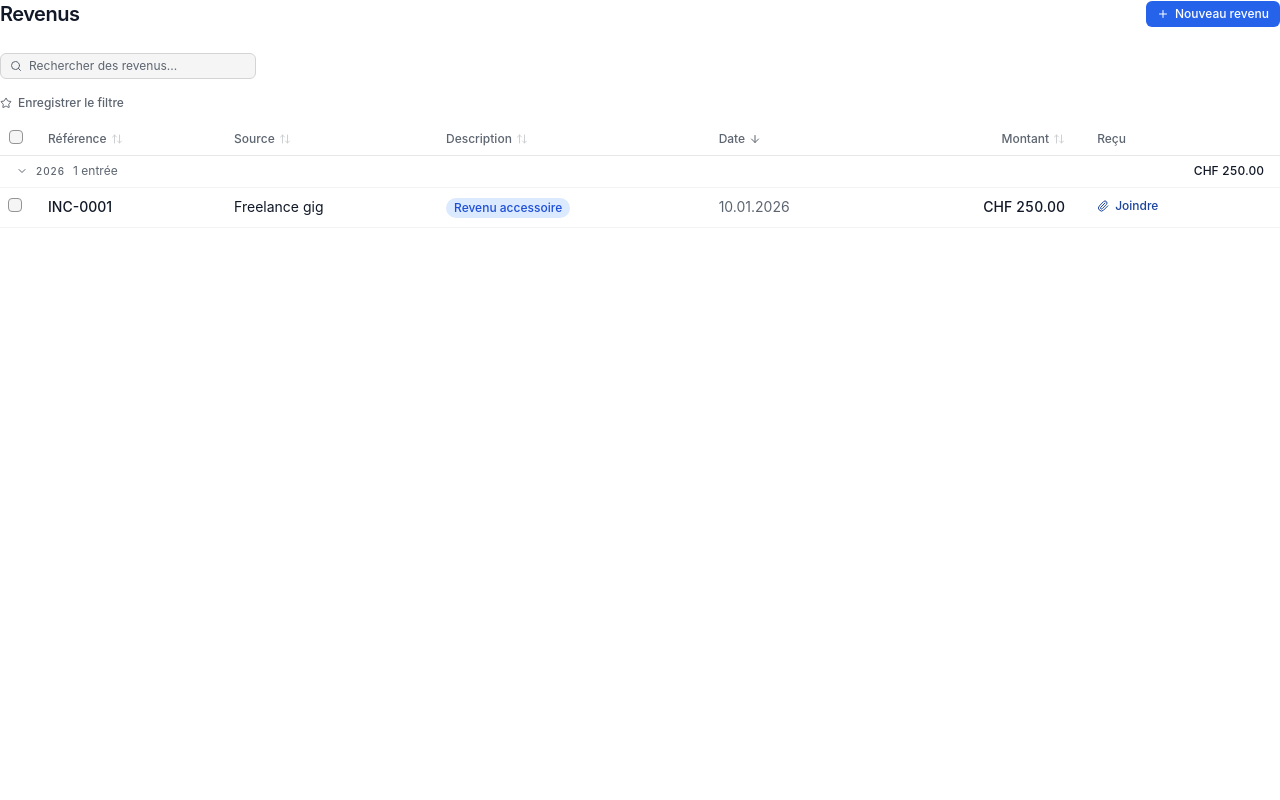
Test: Income category labels › shows the translated label in FR
Expected: the text "Revenu accessoire" is shown, [454, 200, 562, 216]
Step 1. Right-click the text "Freelance gig" → (640, 207), box [0, 187, 1279, 227]
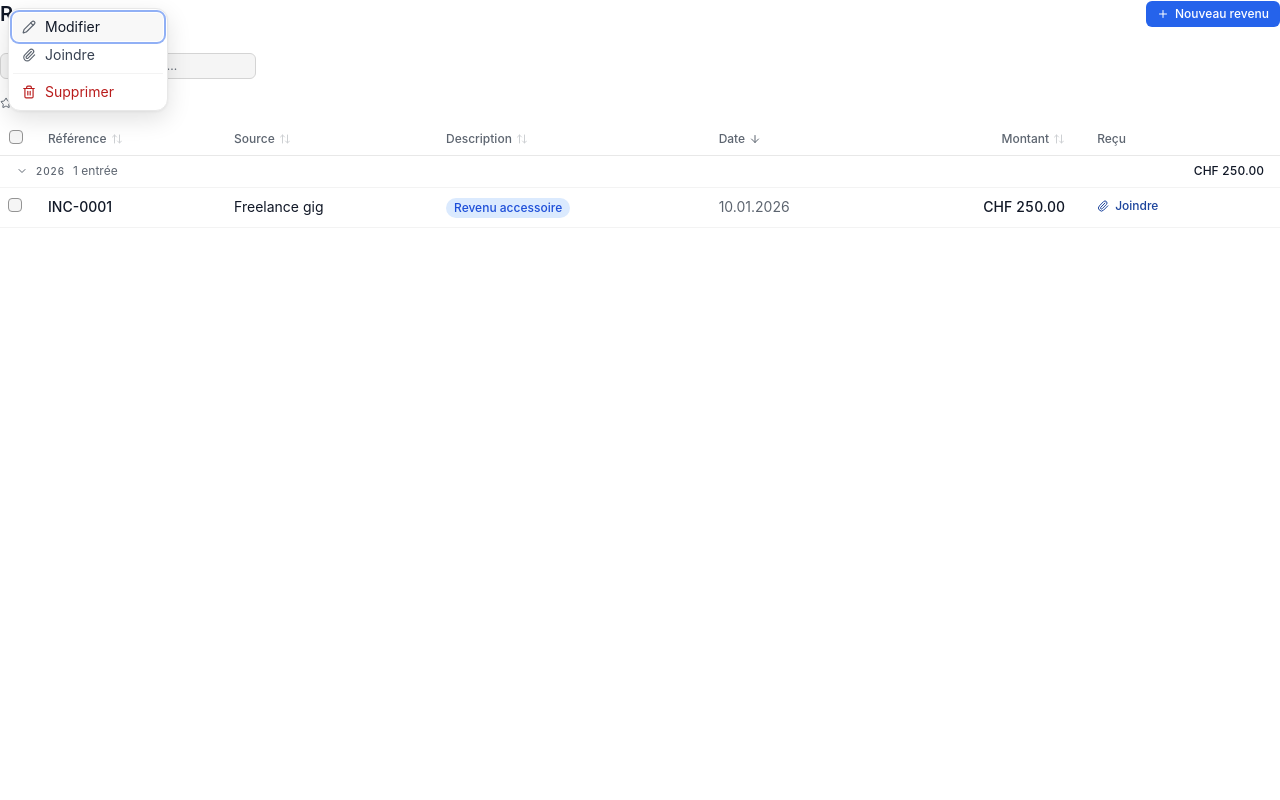
Step 2. Click the menu item "Modifier" → (88, 27), box [13, 13, 163, 41]
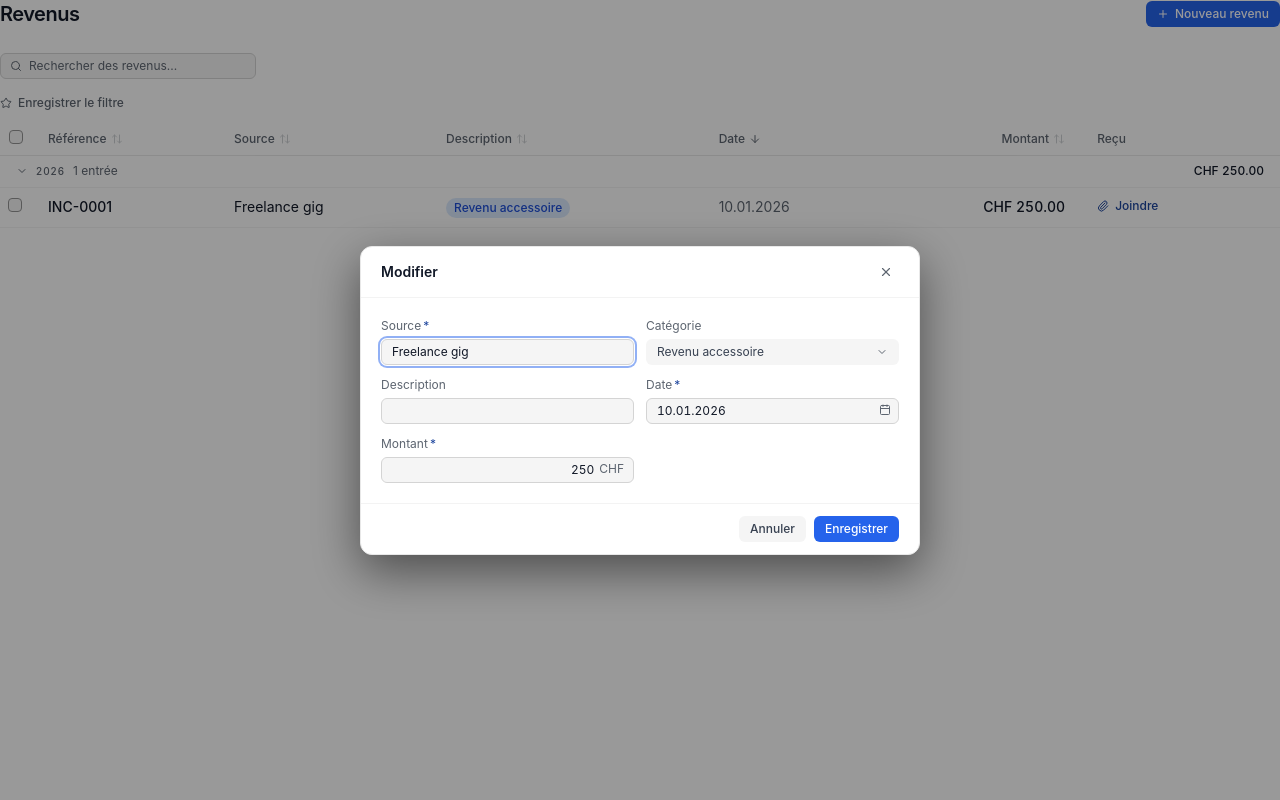
Expected: the dropdown labelled "Revenu accessoire" is shown, [646, 338, 899, 364]
